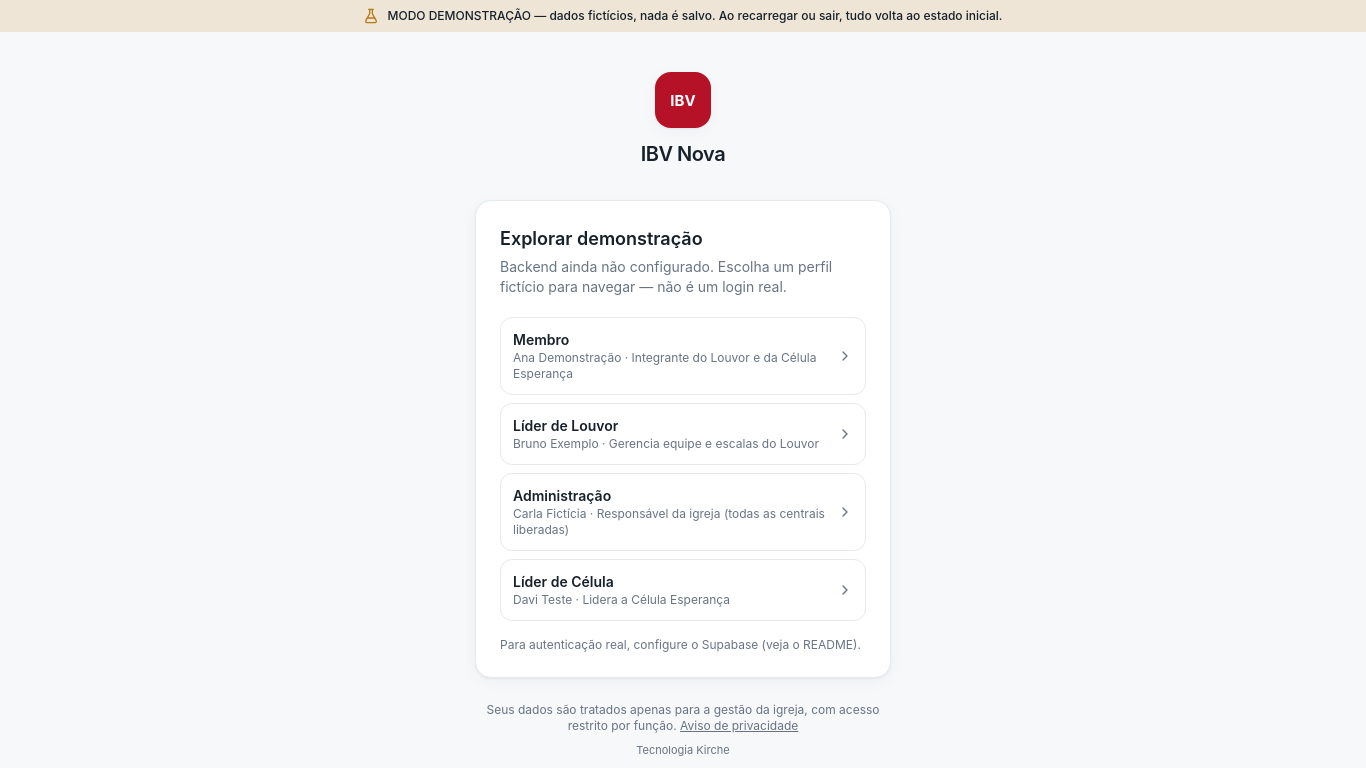
Test: interface por perfil (modo demonstração) › preserva o endereço /eventos
Click the button "Membro" at (683, 356), box [500,317,866,395]
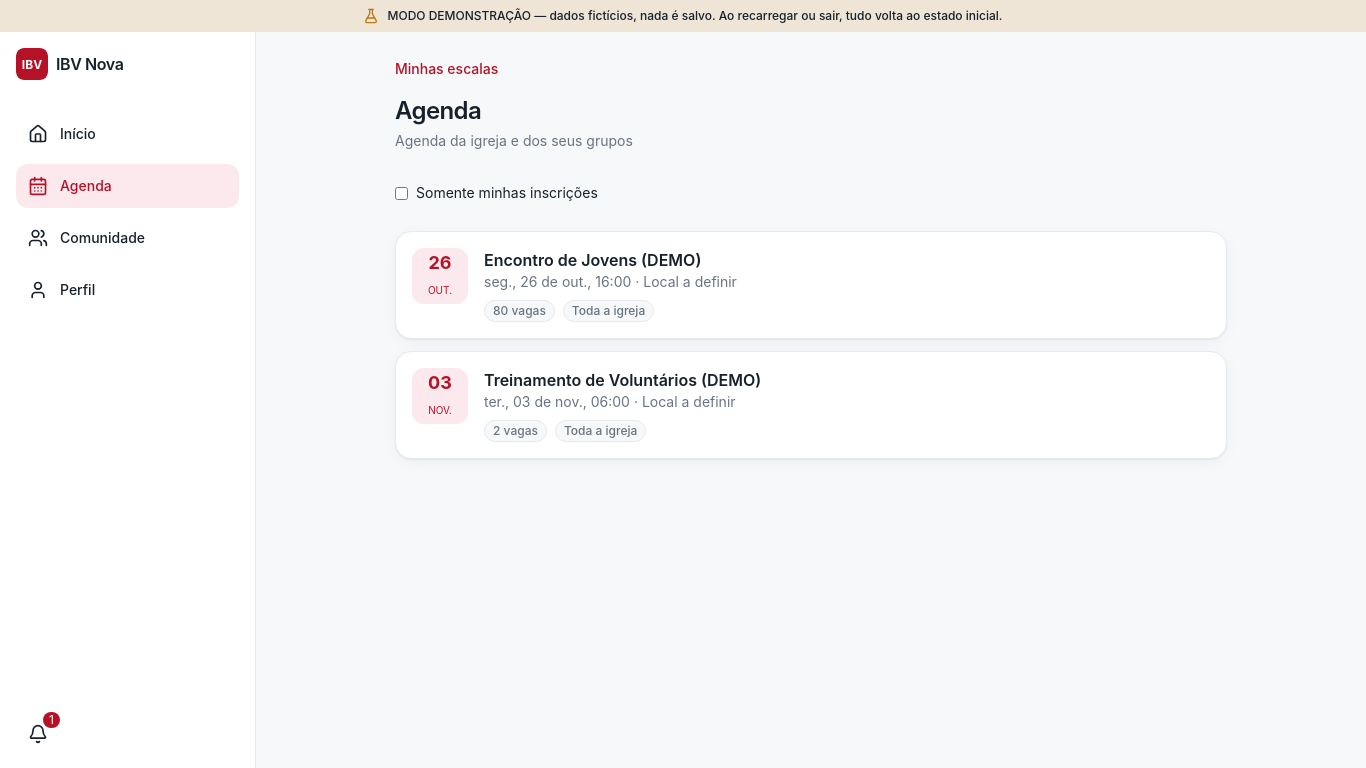
Now the heading "Agenda" is shown, box [395,96,481,125]
